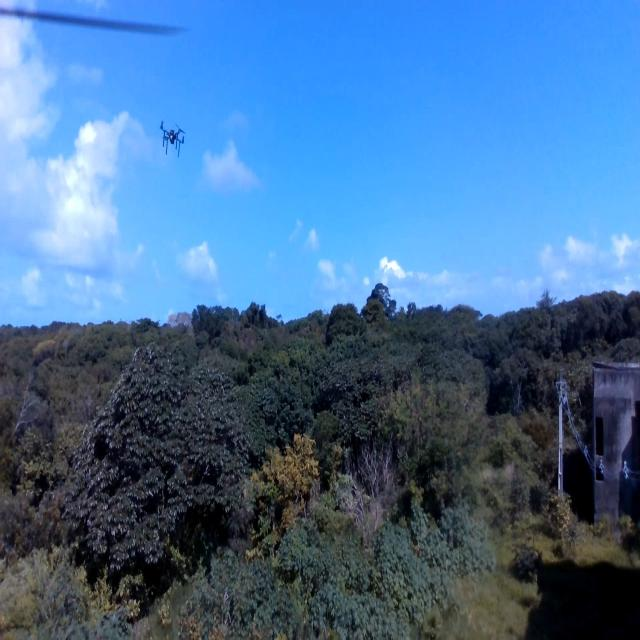-uav-: (153, 112, 192, 168)
